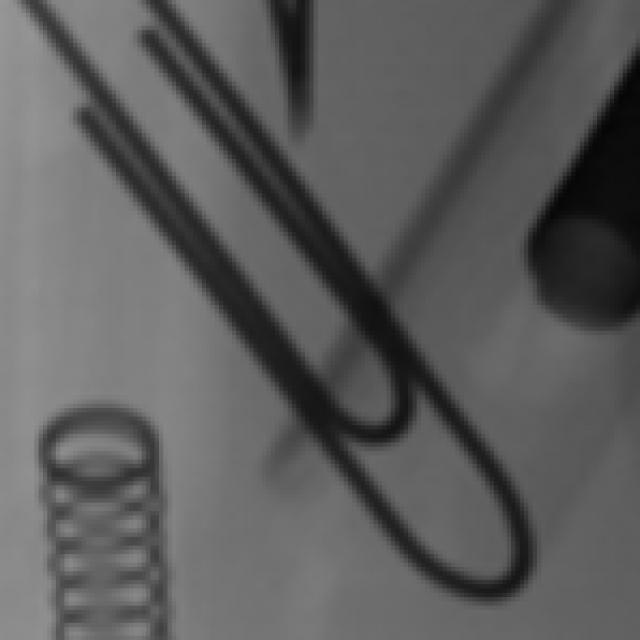BLADE: (247, 1, 347, 121)
